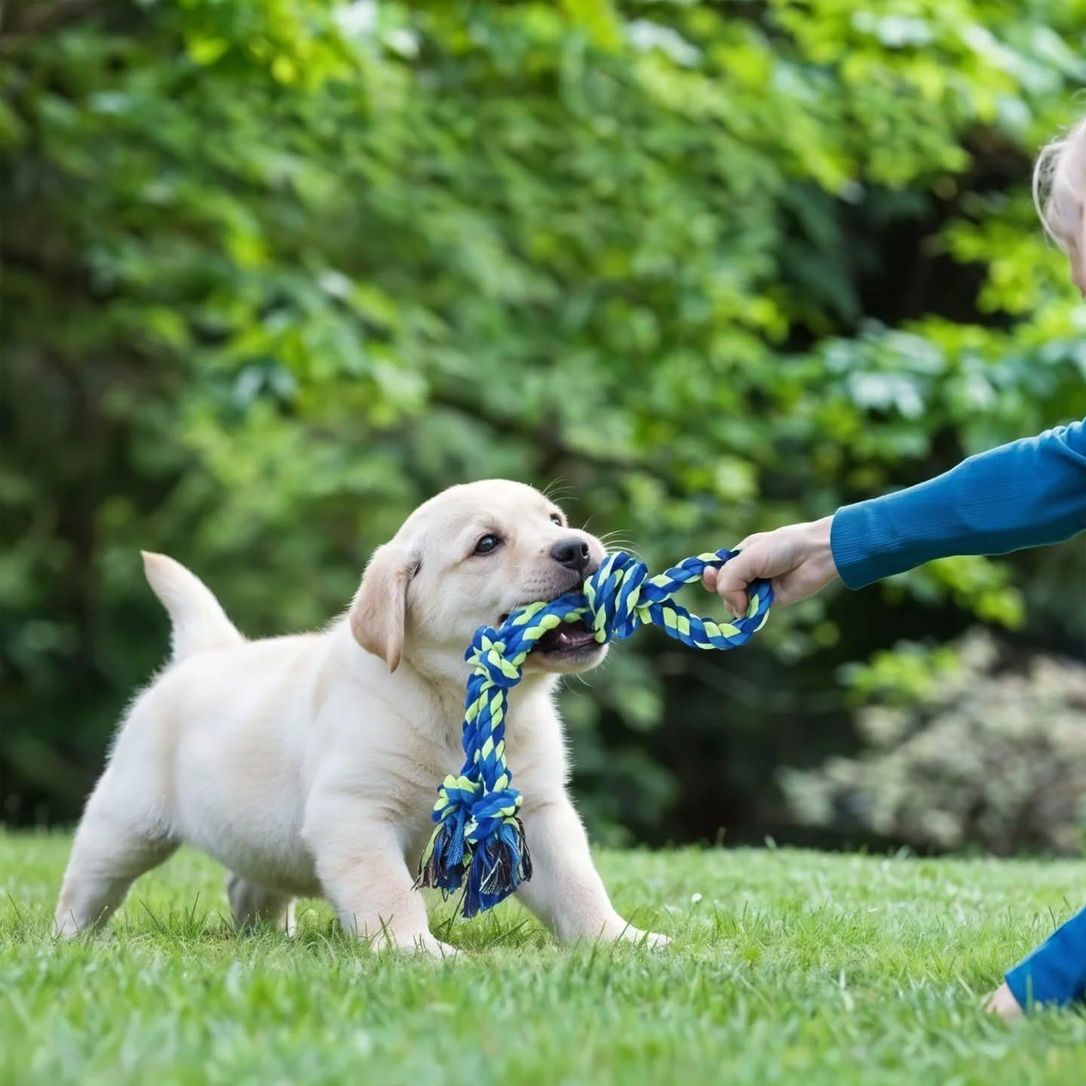non-dog: (694, 112, 1086, 1037)
puppy-dog: (38, 475, 679, 971)
